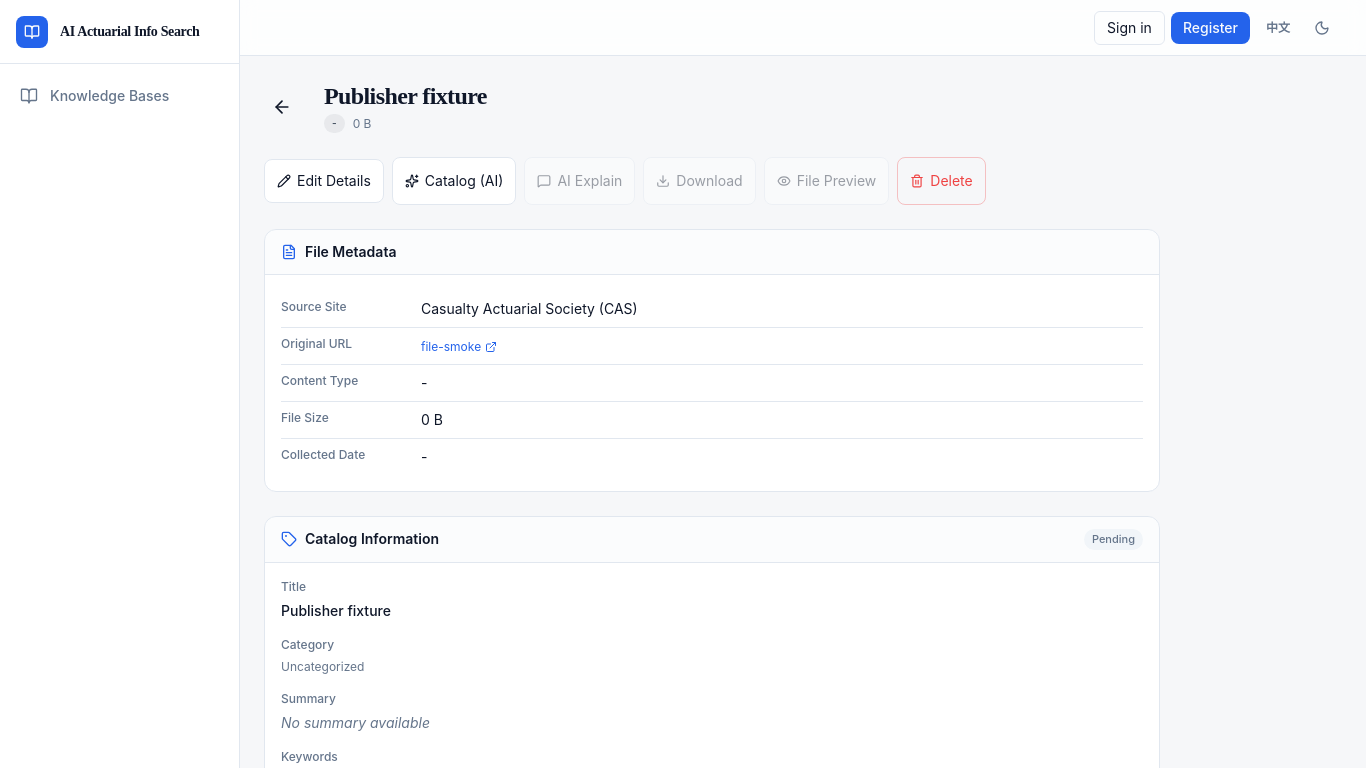
renders the canonical publisher in both languages while retaining raw provenance only in data
Expected: the cell with test id "text-source" reads "Casualty Actuarial Society (CAS)", [421,300,638,317]
Click the button with test id "toggle-lang". click: (1278,28)
box: [1256,6,1300,50]
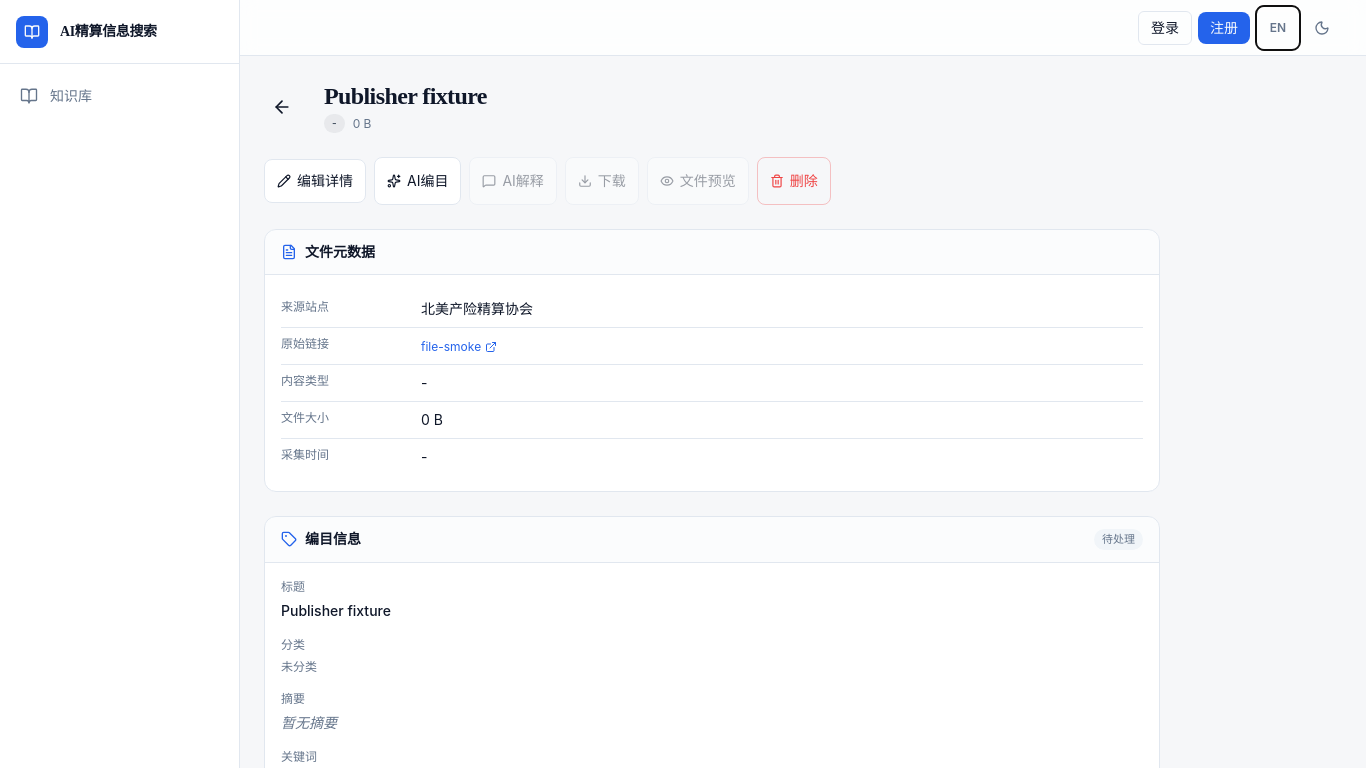
Expected: the cell with test id "text-source" reads "北美产险精算协会", [421,300,533,317]
